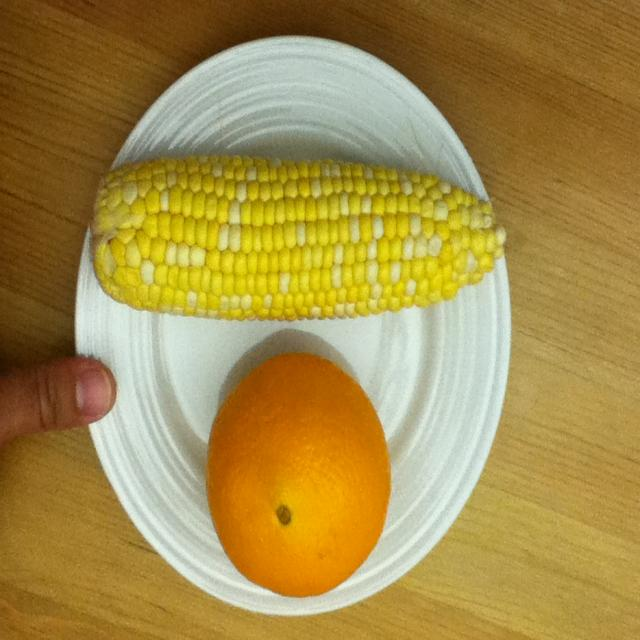corn: (68, 145, 510, 331)
orange: (190, 350, 395, 599)
